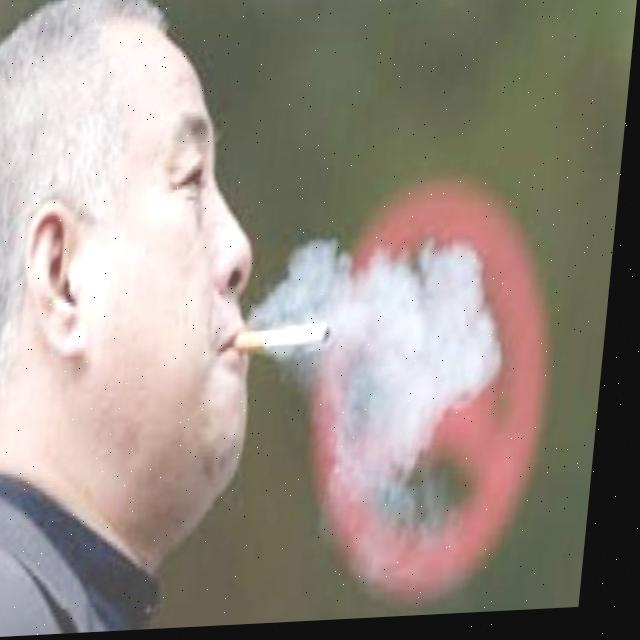cigarette: (241, 327, 339, 358)
